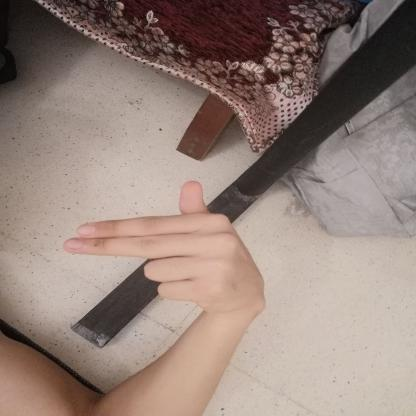GHAYN: (49, 172, 276, 319)
